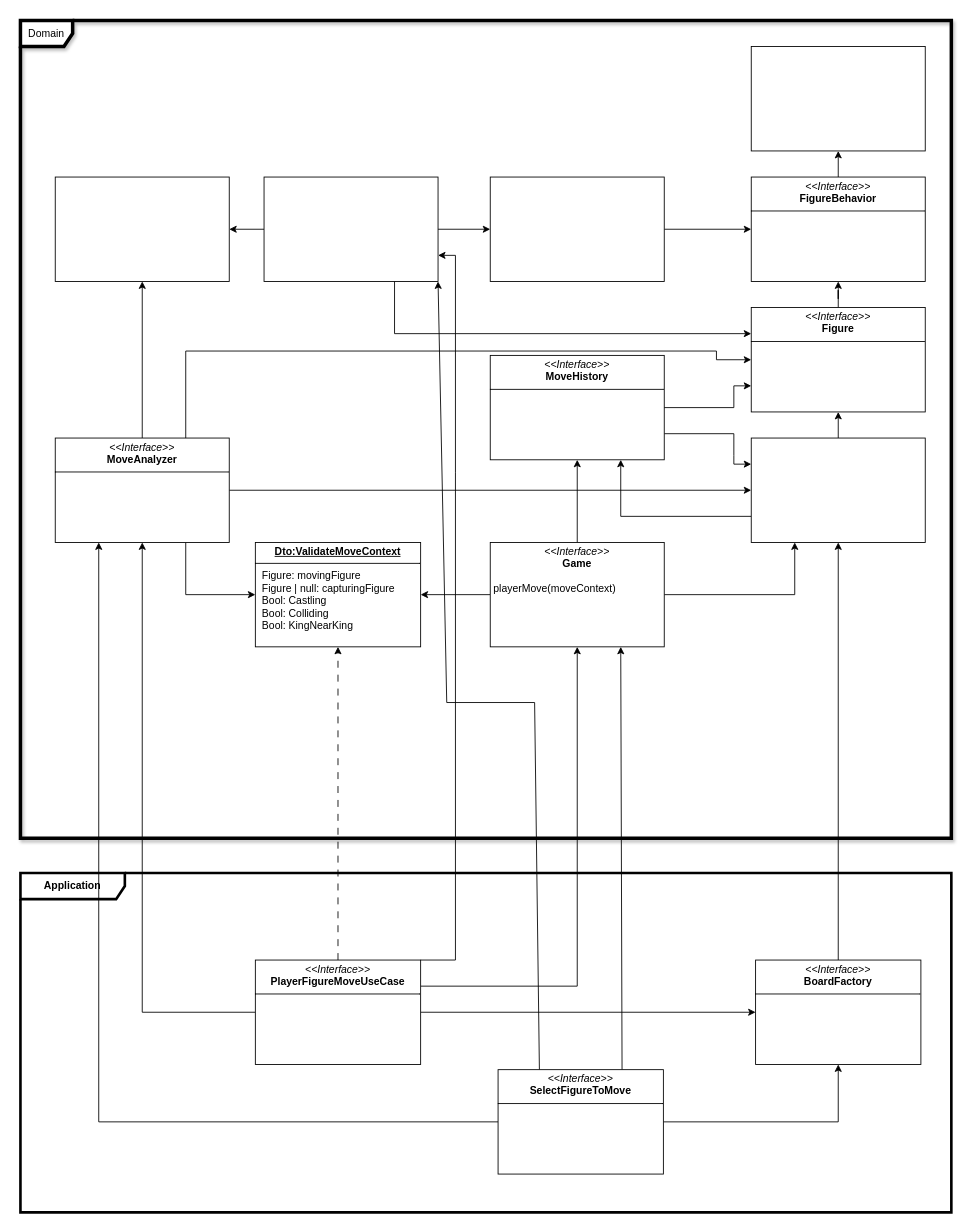
Some shapes in this 973 by 1228 pixel diagram are drawn without their labels. The shapes that lost their labels are listed below. From the top down, each one's centre as x and y in pixels, then its label:
point 837,98: <<Interface>> DirectionsBuilder
point 141,228: <<Interface>> PathGenerator createByDirections(Direction[] directions);
point 350,228: <<Interface>> GameRules
point 576,228: <<Interface>> CheckRule
point 837,489: <<Interface>> Board updateBoard(moveContext)
